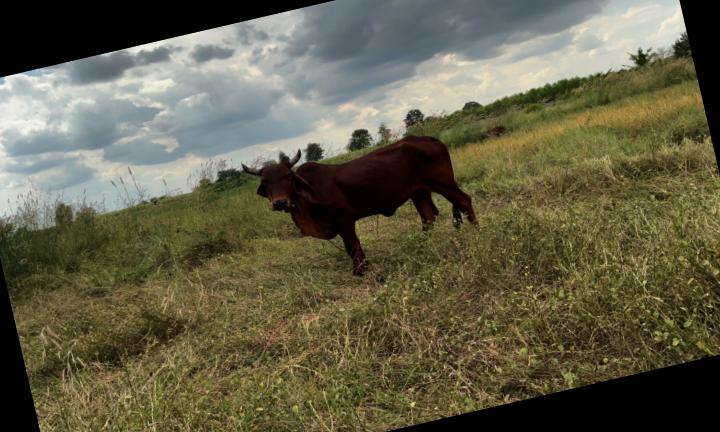Brahman: (243, 136, 476, 275)
